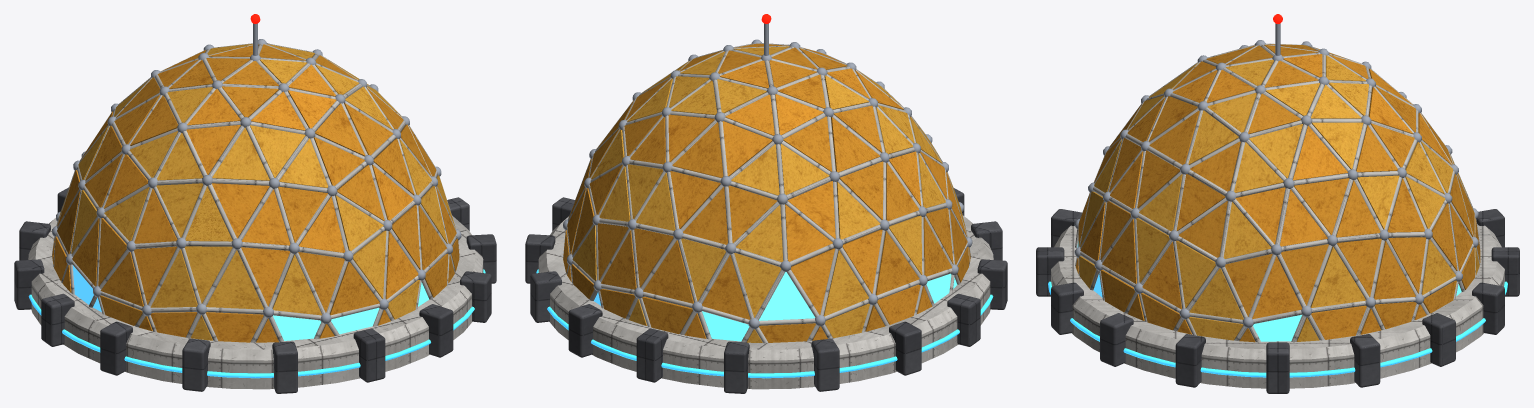
Rendered from GeodesicDome.glb.
3 renders of one model, left to right at view 1: azimuth 30°, elevation 25°; view 2: azimuth 150°, elevation 25°; view 3: azimuth 270°, elevation 25°, orthographic.
Visible parts, largest first — view 1: HAB_GeodesicDome_Mesh; view 2: HAB_GeodesicDome_Mesh; view 3: HAB_GeodesicDome_Mesh.
Boxes of the visible parts, bbox=[...] form: HAB_GeodesicDome_Mesh: bbox=[14, 14, 496, 393]; HAB_GeodesicDome_Mesh: bbox=[525, 14, 1007, 393]; HAB_GeodesicDome_Mesh: bbox=[1036, 14, 1519, 393].
Size of the model in its own units: 9.45 by 6.03 by 9.45.
Materials: 9 (5 with a texture image).
